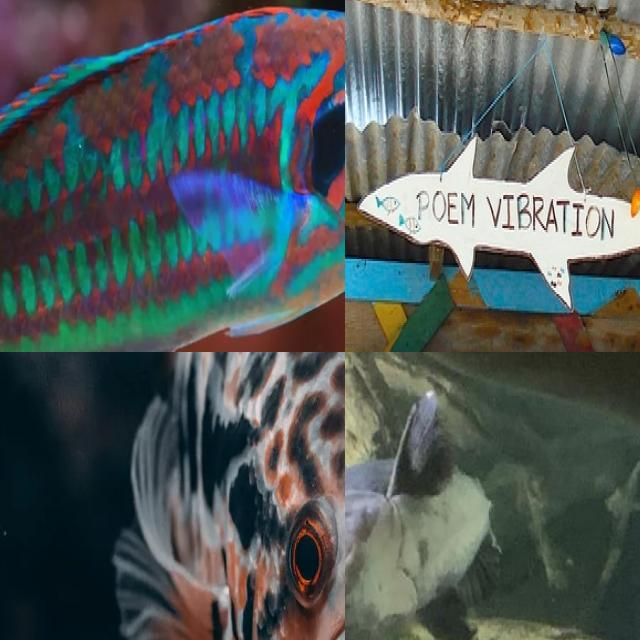fish: (0, 0, 345, 352), (356, 114, 640, 352), (345, 393, 503, 640)
